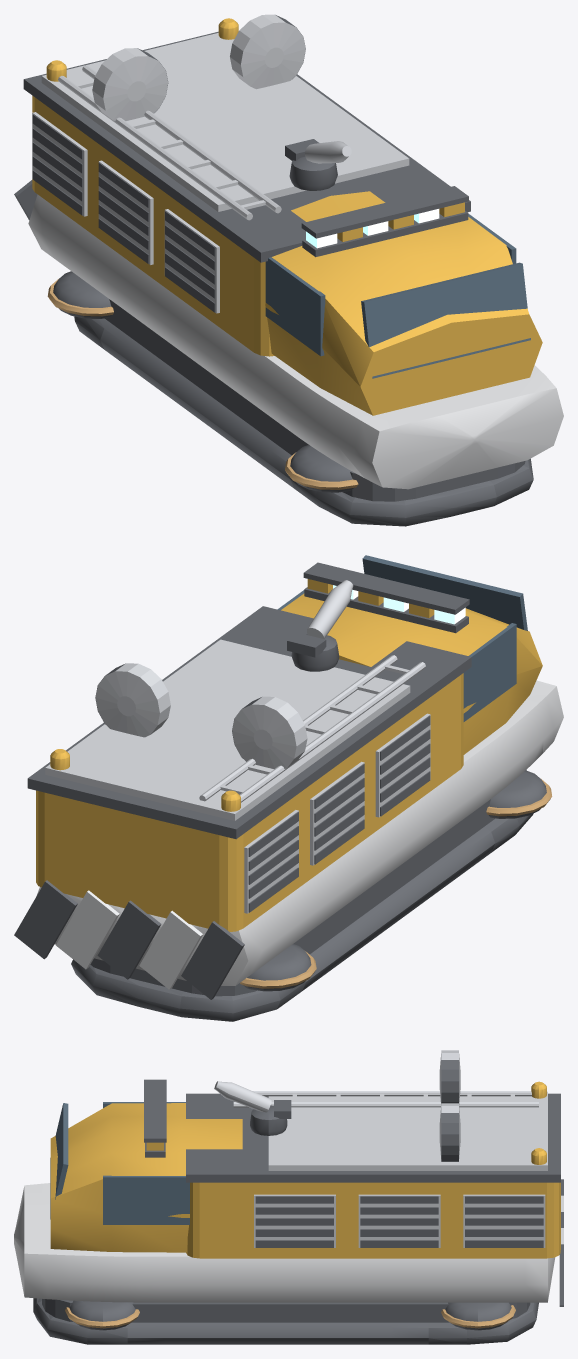
The model's file is hover-transit-and-antigrav-fleet-fire-response-skiff-857bac1e__17087.glb.
3 views of the same model, one above another, from view 1: azimuth 30°, elevation 25°; view 2: azimuth 150°, elevation 25°; view 3: azimuth 270°, elevation 25° (orthographic). The views are drawn at different scales.
Visible parts, largest first — view 1: fire-response-skiff, monitor (×2); view 2: fire-response-skiff, monitor (×2); view 3: fire-response-skiff, monitor (×2).
Boxes of the visible parts, x1,y1,x2,y2 form: fire-response-skiff: (14, 14, 563, 526); monitor (×2): (285, 139, 351, 190); fire-response-skiff: (14, 555, 563, 1021); monitor (×2): (287, 580, 353, 671); fire-response-skiff: (14, 1050, 563, 1344); monitor (×2): (214, 1081, 291, 1135).
Bounding box in the file's own units: 2.67 × 2.92 × 6.3.
